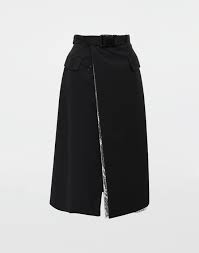S_skirt: (41, 35, 150, 224)
